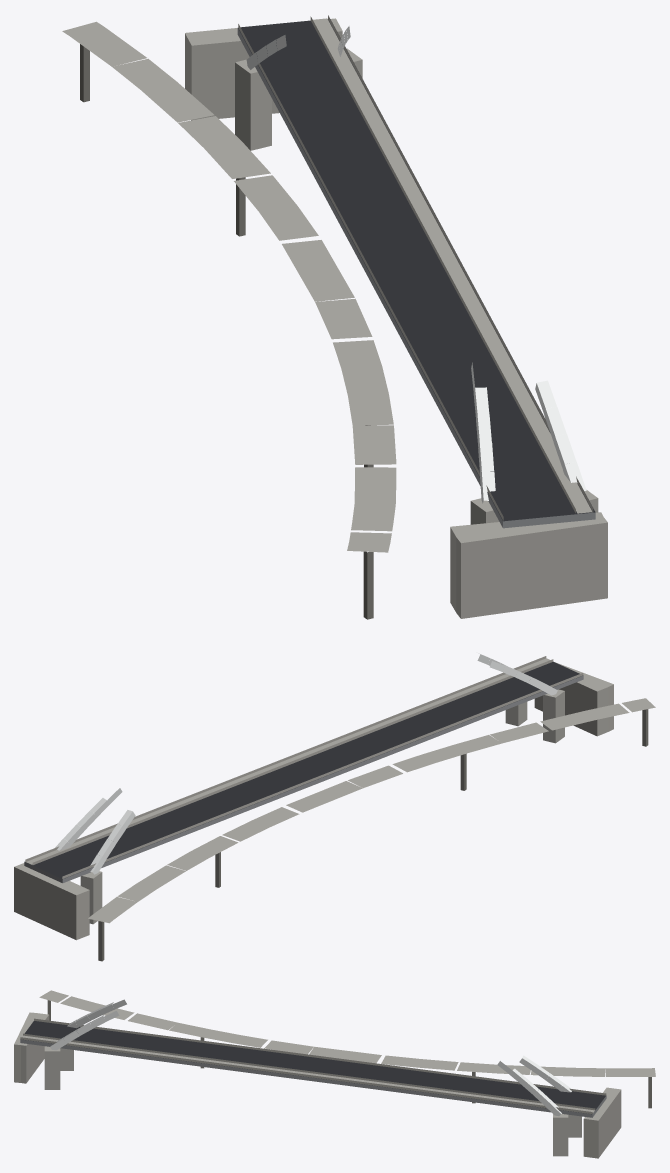
File: br_r11_walterdale_lod3.gltf
3 views of the same model, one above another, from view 1: azimuth 30°, elevation 25°; view 2: azimuth 150°, elevation 25°; view 3: azimuth 270°, elevation 25° (orthographic). The views are drawn at different scales.
Parts seen in each view (by area): view 1: br_r11_walterdale_lod3; view 2: br_r11_walterdale_lod3; view 3: br_r11_walterdale_lod3.
Boxes of the visible parts, left/top/right/bottom form: br_r11_walterdale_lod3: left=62, top=15, right=607, bottom=619; br_r11_walterdale_lod3: left=14, top=653, right=655, bottom=961; br_r11_walterdale_lod3: left=14, top=990, right=655, bottom=1158.
Bounding box in the file's own units: 120 × 35.15 × 249.
